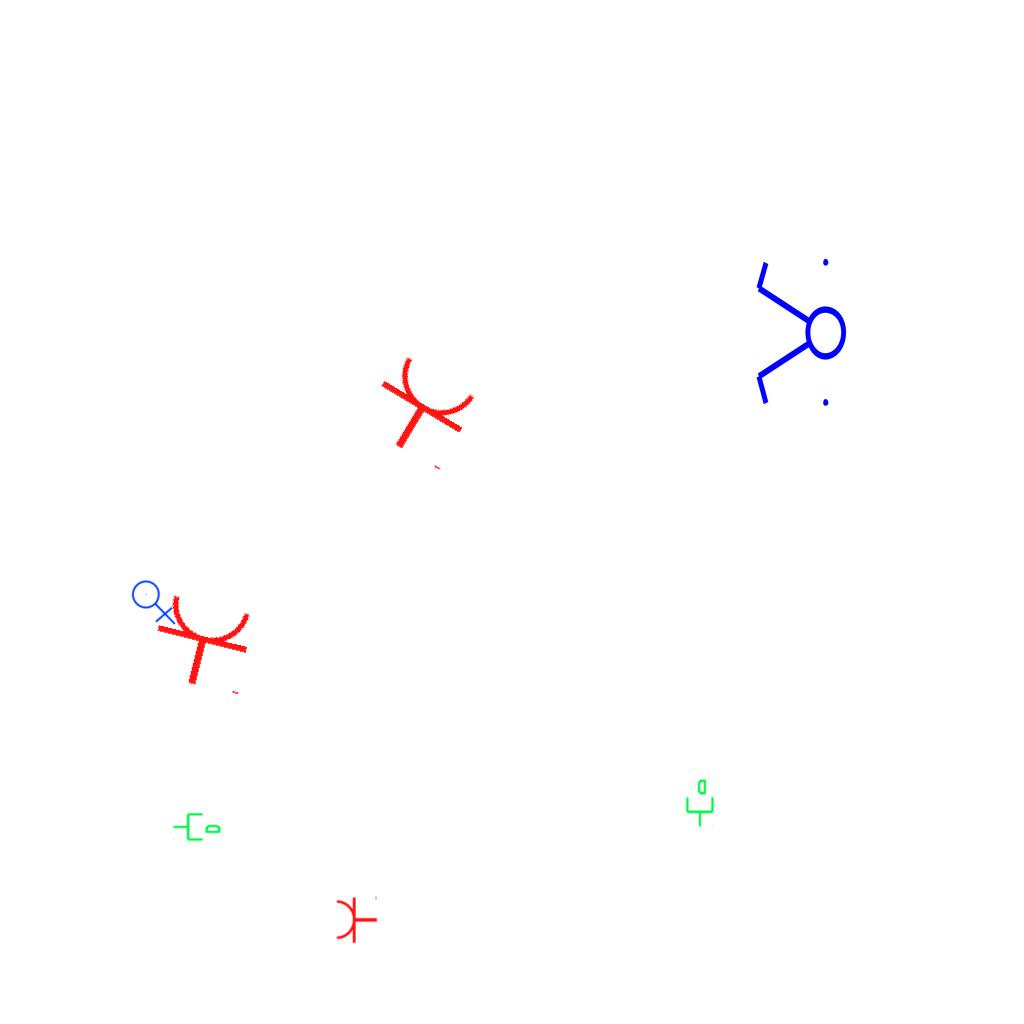Datenanschluss_einfach: (172, 809, 222, 843), (682, 778, 716, 828)
Elektroanschluss_allgemein_230V_Geraeteanschlussdose_230V: (131, 576, 178, 625)
Schukosteckdose_einfach: (356, 348, 487, 476), (144, 589, 263, 699), (335, 894, 378, 944)
Serienschalter: (752, 250, 848, 418)
